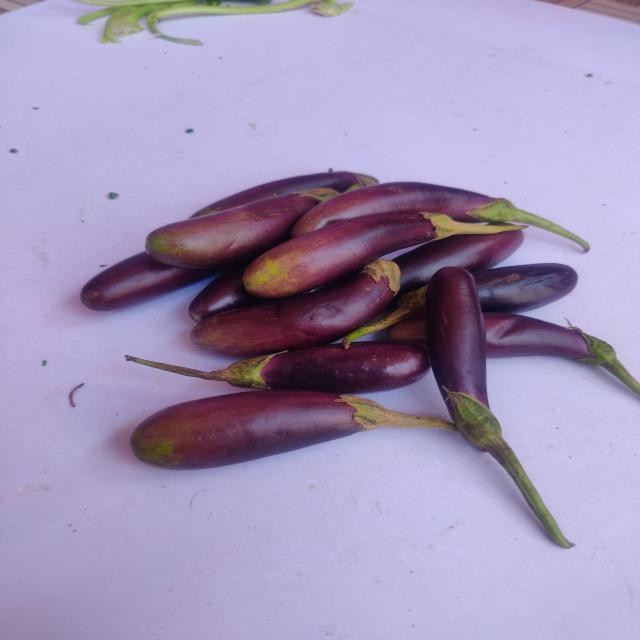Brinjal: (426, 267, 573, 549), (129, 390, 459, 470), (291, 182, 590, 252), (243, 213, 476, 298), (452, 394, 554, 527)
